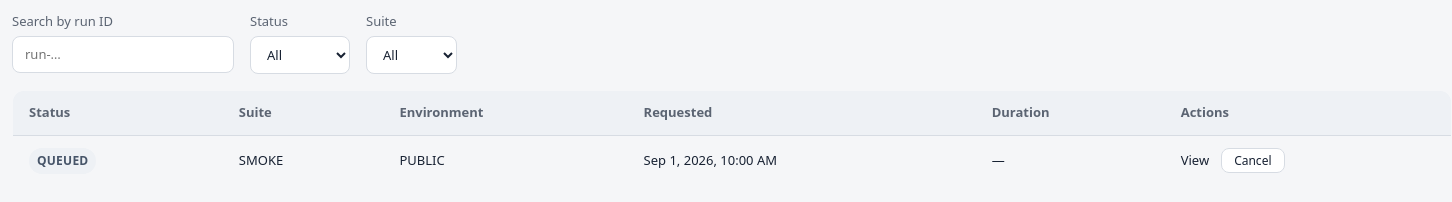
Test: RunsTable › cancels a run and refreshes the list
The image size is (1452, 202).
Step 1. Click the button "Cancel" → [1253, 160], box [1221,148,1284,172]
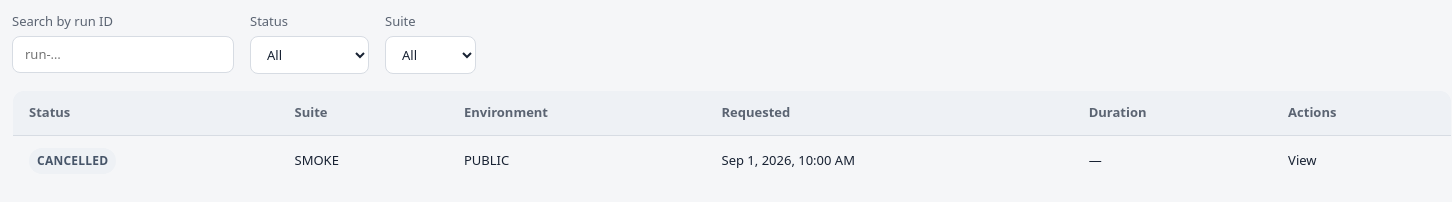
Result: the cell "CANCELLED" is shown at [12,135,278,186]
